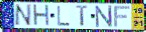F: (113, 5, 132, 29)
H: (32, 4, 51, 28)
L: (56, 5, 71, 26)
N: (13, 4, 33, 27), (94, 4, 113, 28)
T: (75, 5, 90, 28)
